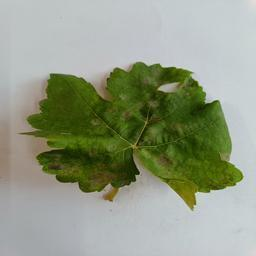Powdery-Mildew: (56, 130, 121, 151), (51, 159, 107, 182), (109, 96, 143, 127), (156, 148, 185, 179), (180, 176, 203, 200), (137, 65, 162, 85), (148, 120, 166, 142)
